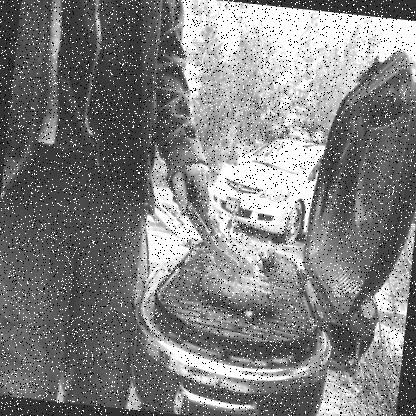Car: (208, 118, 328, 248)
